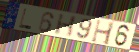6: (38, 11, 56, 34), (114, 24, 130, 48)
9: (75, 18, 93, 40)
H: (90, 19, 116, 47), (52, 14, 78, 38)
L: (18, 8, 33, 31)
